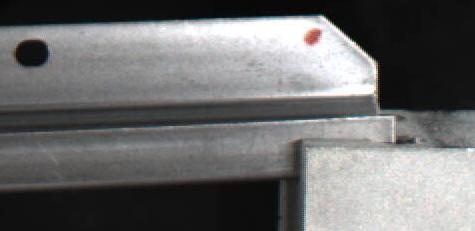cut: (243, 13, 401, 177)
holes: (13, 37, 50, 67)
